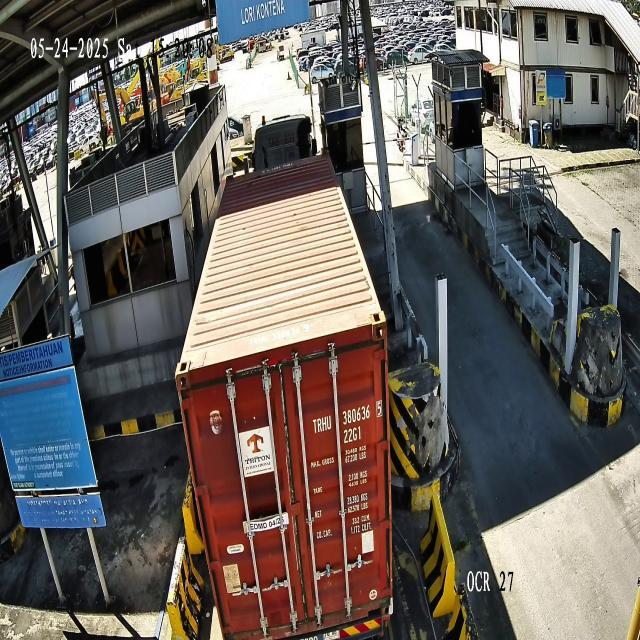ISO: (343, 424, 362, 444)
container_number: (312, 400, 382, 434)
